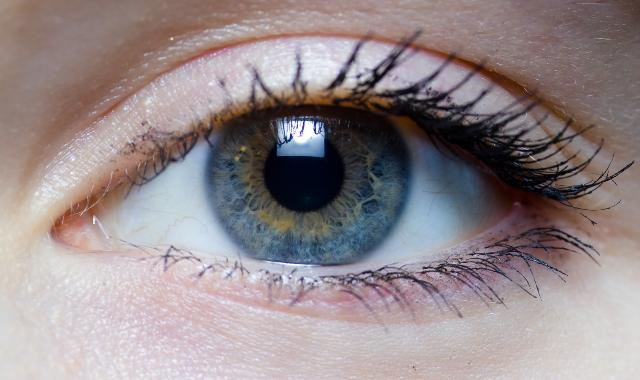eye: (202, 98, 414, 270)
